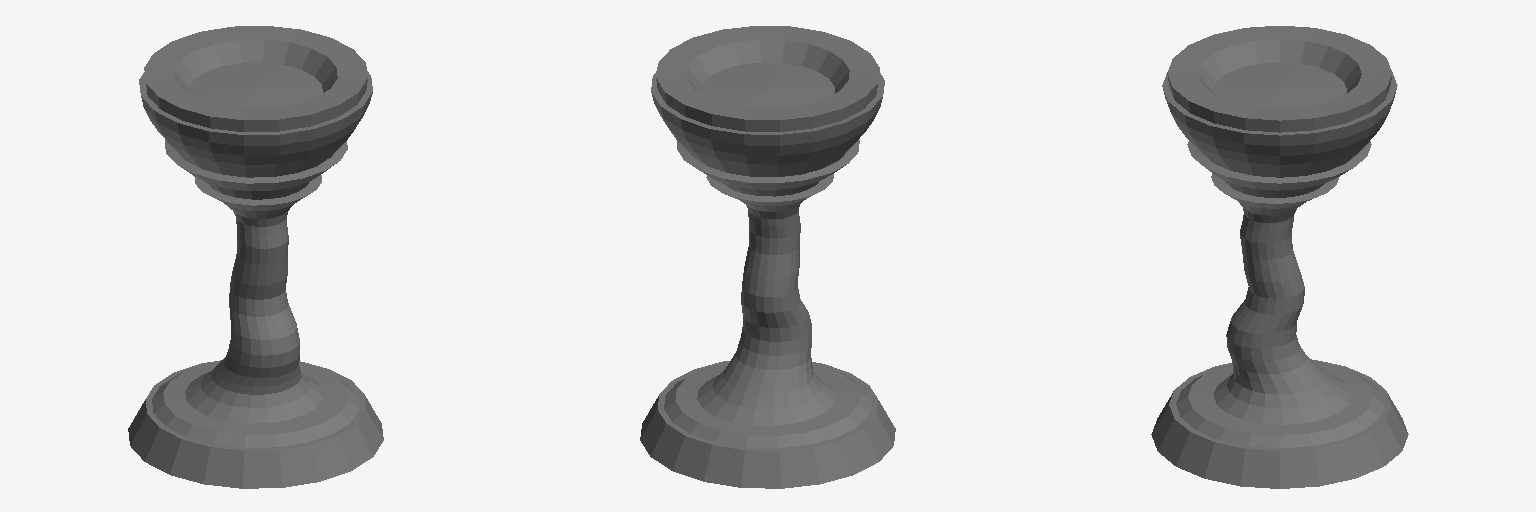
The model's file is Brazier_Low.obj.
3 views of the same model, side by side, from view 1: azimuth 30°, elevation 25°; view 2: azimuth 150°, elevation 25°; view 3: azimuth 270°, elevation 25° (orthographic).
Visible parts, largest first — view 1: Brazier_Low; view 2: Brazier_Low; view 3: Brazier_Low.
Boxes of the visible parts, x1=… form: Brazier_Low: x1=128, y1=26, x2=383, y2=488; Brazier_Low: x1=640, y1=26, x2=895, y2=488; Brazier_Low: x1=1151, y1=26, x2=1408, y2=488.
Bounding box in the file's own units: 94.17 × 148 × 94.17.